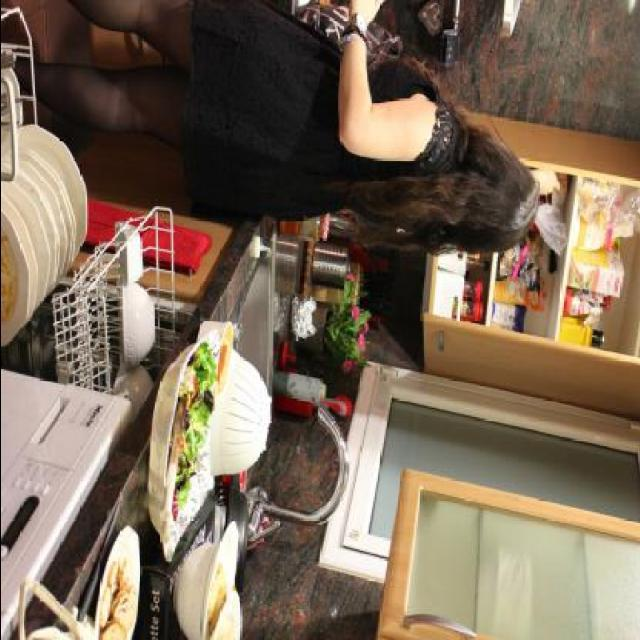Salad: (172, 336, 220, 518)
